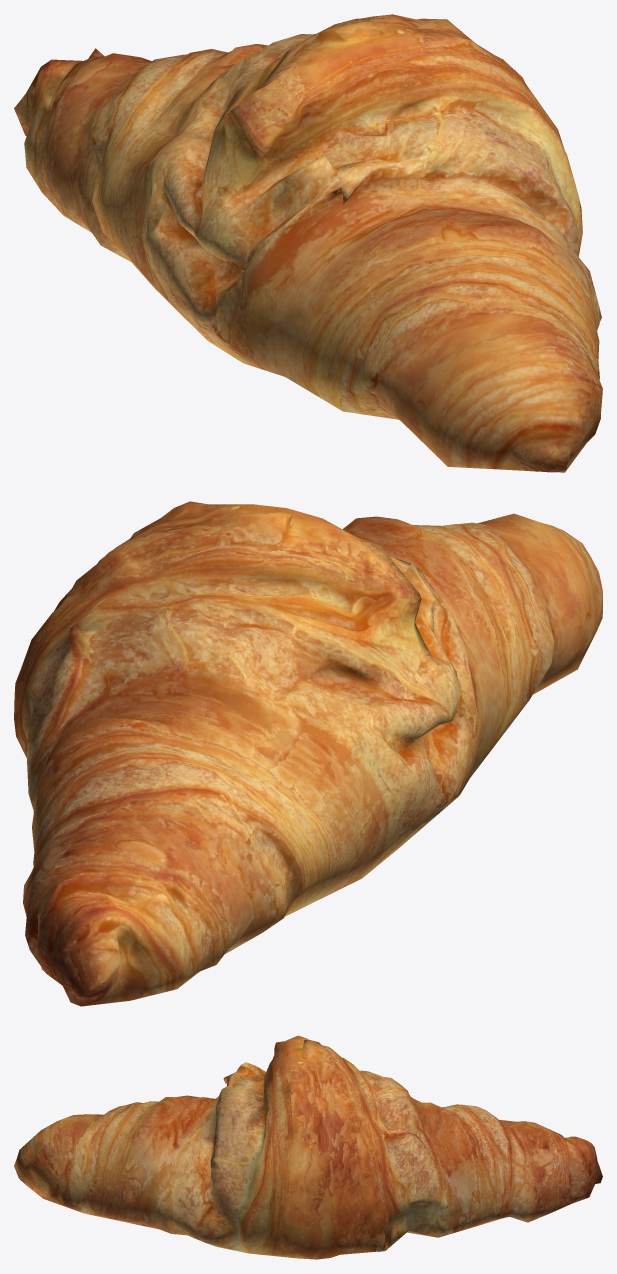
The model's file is chosong.glb.
3 renders of one model, top to bottom at view 1: azimuth 30°, elevation 25°; view 2: azimuth 150°, elevation 25°; view 3: azimuth 270°, elevation 25°, orthographic. The views are drawn at different scales.
Parts seen in each view (by area): view 1: croissant_02_L0; view 2: croissant_02_L0; view 3: croissant_02_L0.
Part boxes in pixels (<box>): croissant_02_L0: <box>14,14,602,472</box>; croissant_02_L0: <box>14,501,602,1006</box>; croissant_02_L0: <box>14,1035,602,1259</box>.
Bounding box in the file's own units: 6.98 × 5.59 × 16.54.
1 material, 1 textured.
